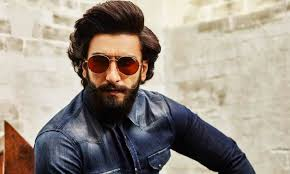Indian_Male: (79, 32, 140, 113)
